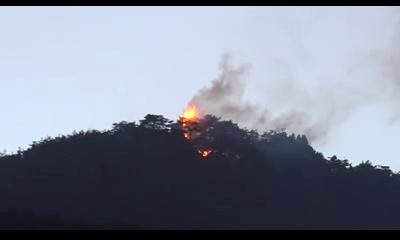fire: (182, 107, 197, 120)
smoke: (204, 88, 240, 112)
